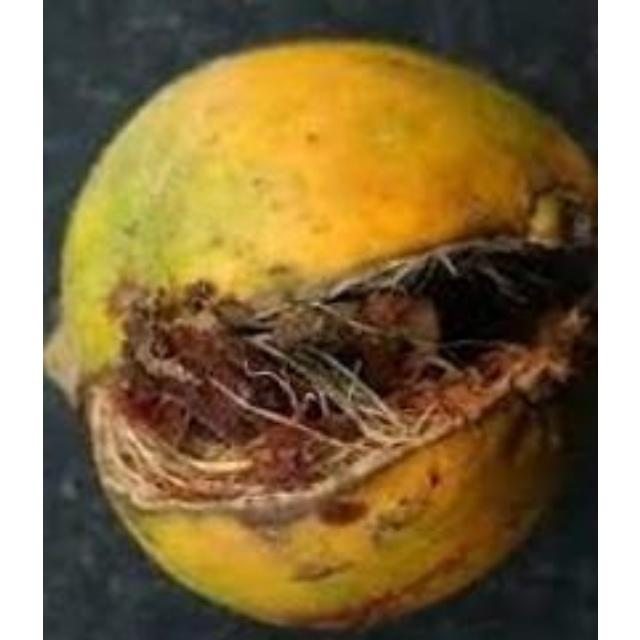damaged: (42, 35, 594, 637)
